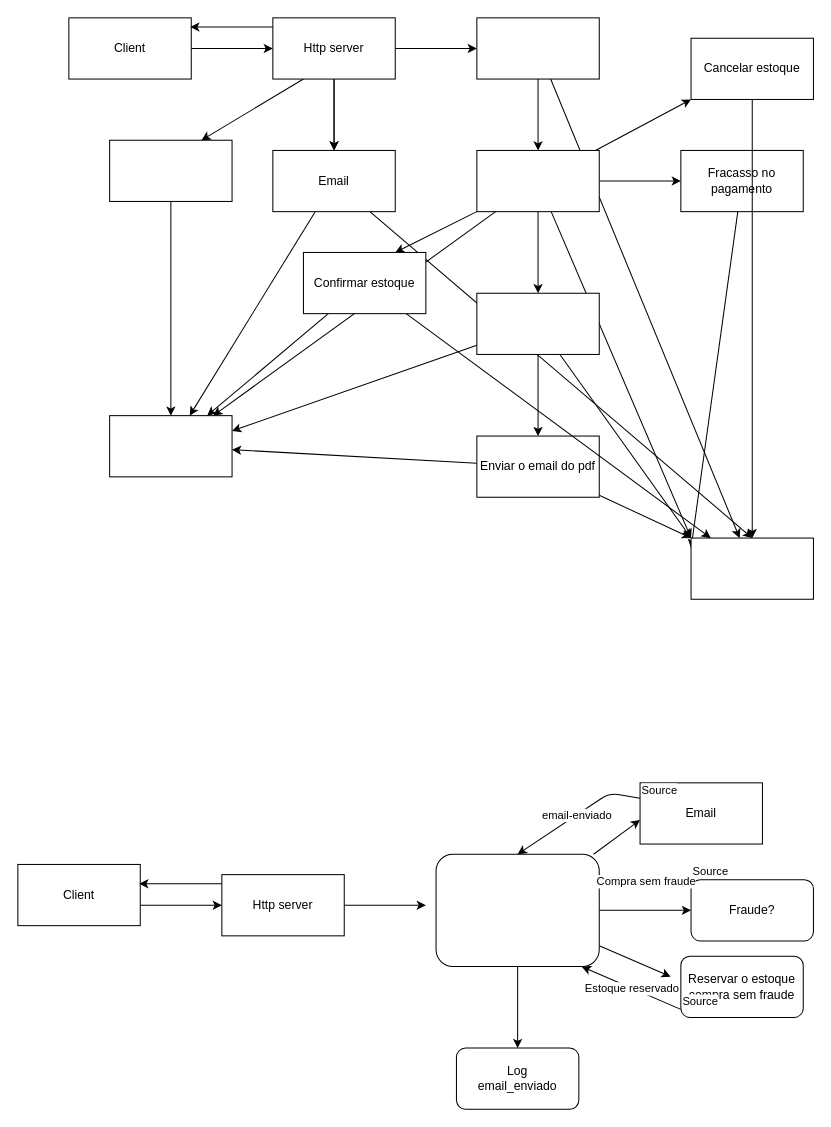
The diagram is 831 pixels wide and 1127 high, and some of its shapes have lost their labels. The shapes that lost their labels are listed below. From the top down, each one's centre as x and y in pixels, then its label:
[537,48]: Verificar faude
[170,170]: Reservar estoque
[537,180]: Efetuar pagamento
[537,323]: Gerar pdf
[170,446]: Analytics
[751,568]: Sistema de log
[517,909]: Broker
